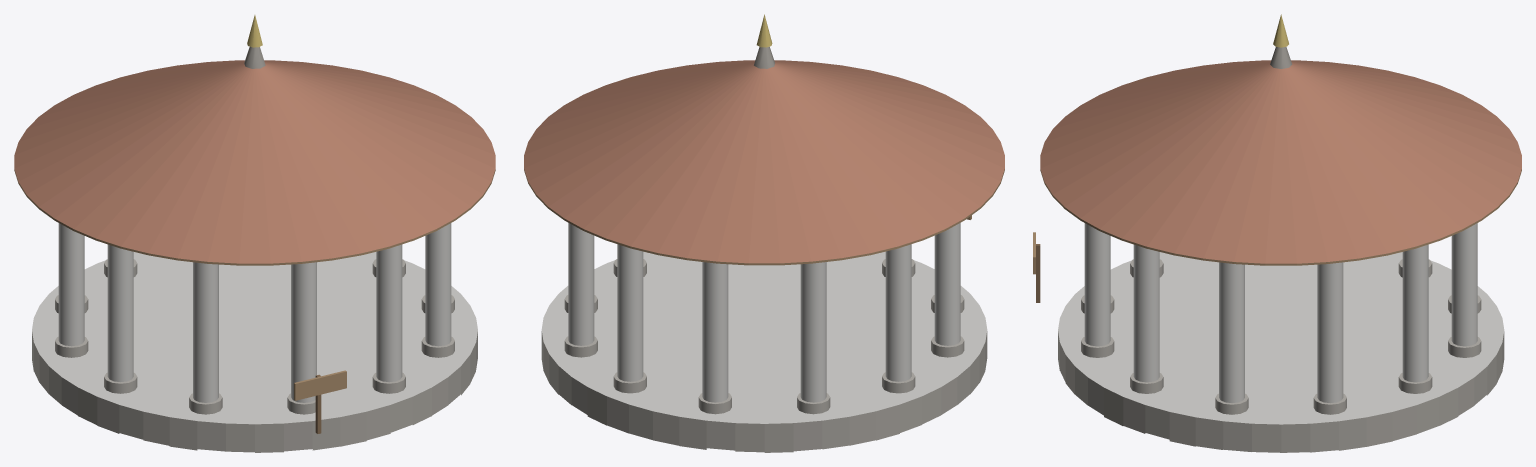
3 renders of one model, left to right at view 1: azimuth 30°, elevation 25°; view 2: azimuth 150°, elevation 25°; view 3: azimuth 270°, elevation 25°, orthographic.
Visible parts, largest first — view 1: GZ01_visible; view 2: GZ01_visible; view 3: GZ01_visible.
Part boxes in pixels (left/top/right/bottom): GZ01_visible: left=14, top=15, right=495, bottom=452; GZ01_visible: left=524, top=14, right=1004, bottom=452; GZ01_visible: left=1033, top=14, right=1521, bottom=452.
Size of the model in its own units: 12.97 by 10.28 by 13.17.
